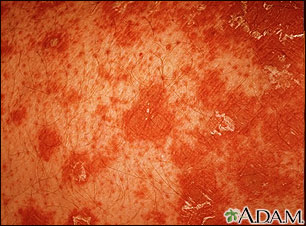Pityriasis Rubra Pilaris: (20, 29, 300, 189)
